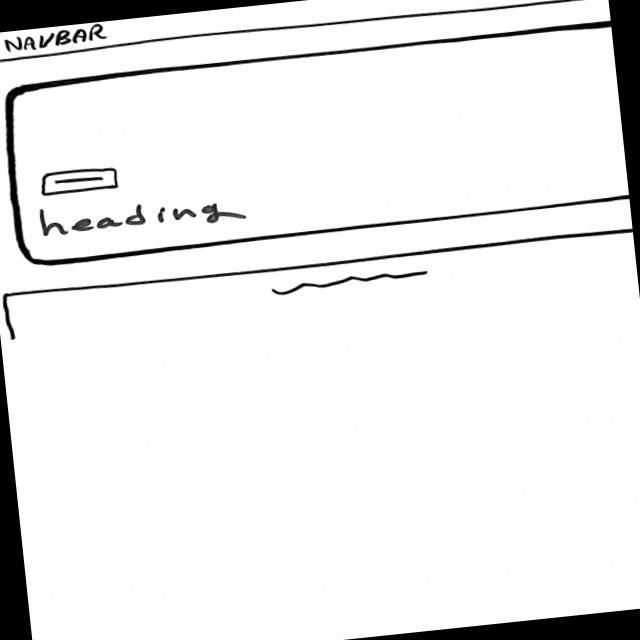container: (0, 19, 629, 269), (0, 0, 608, 65)
icon-button: (38, 163, 122, 197)
label: (38, 187, 245, 241), (0, 20, 112, 52)
text: (268, 264, 432, 296)
